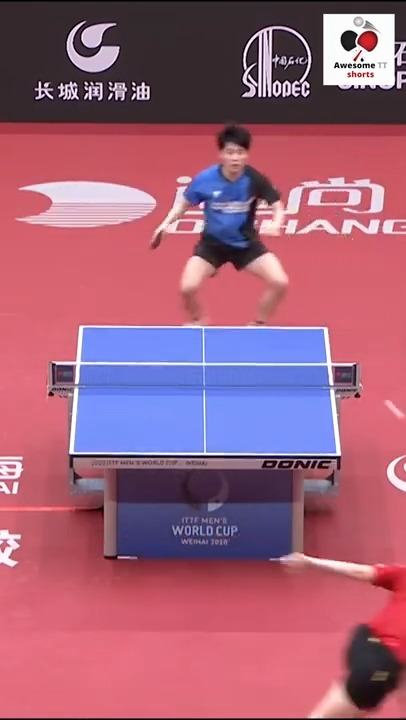Ball: (381, 398, 406, 420)
